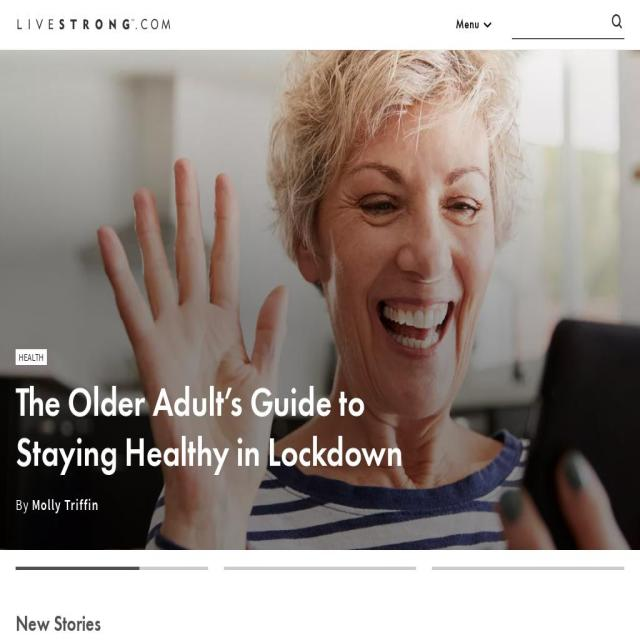field: (512, 11, 624, 39)
heading: (16, 380, 460, 480), (16, 612, 624, 638), (16, 18, 172, 30)
image: (0, 50, 640, 550), (224, 567, 416, 570), (432, 567, 624, 570), (15, 567, 86, 570)
link: (458, 0, 590, 13), (18, 351, 44, 363)
text: (32, 495, 99, 514), (456, 16, 480, 34), (16, 495, 32, 514)
